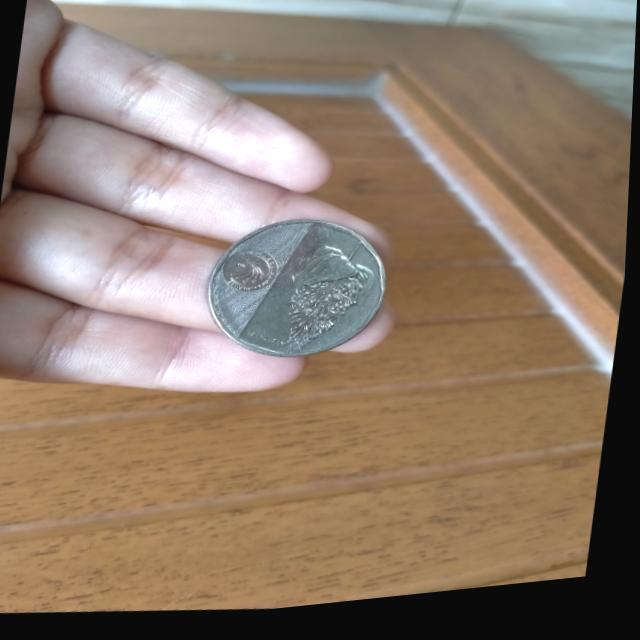10_New_Back: (273, 225, 386, 374)
